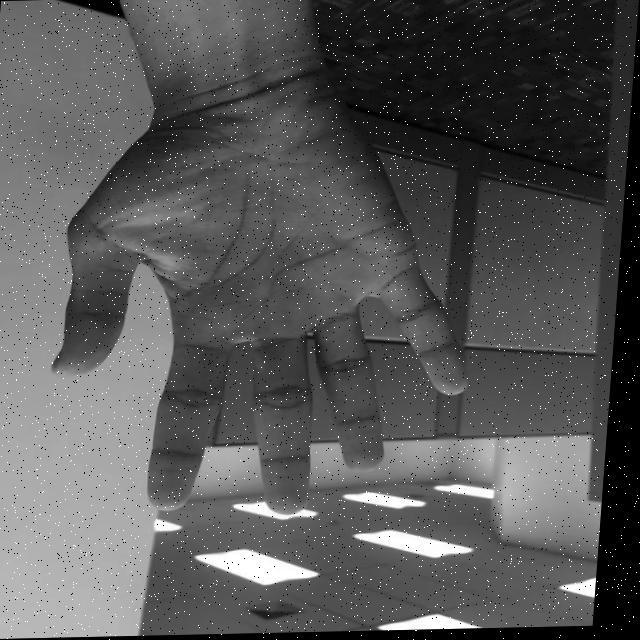no-gloves: (41, 88, 492, 519)
